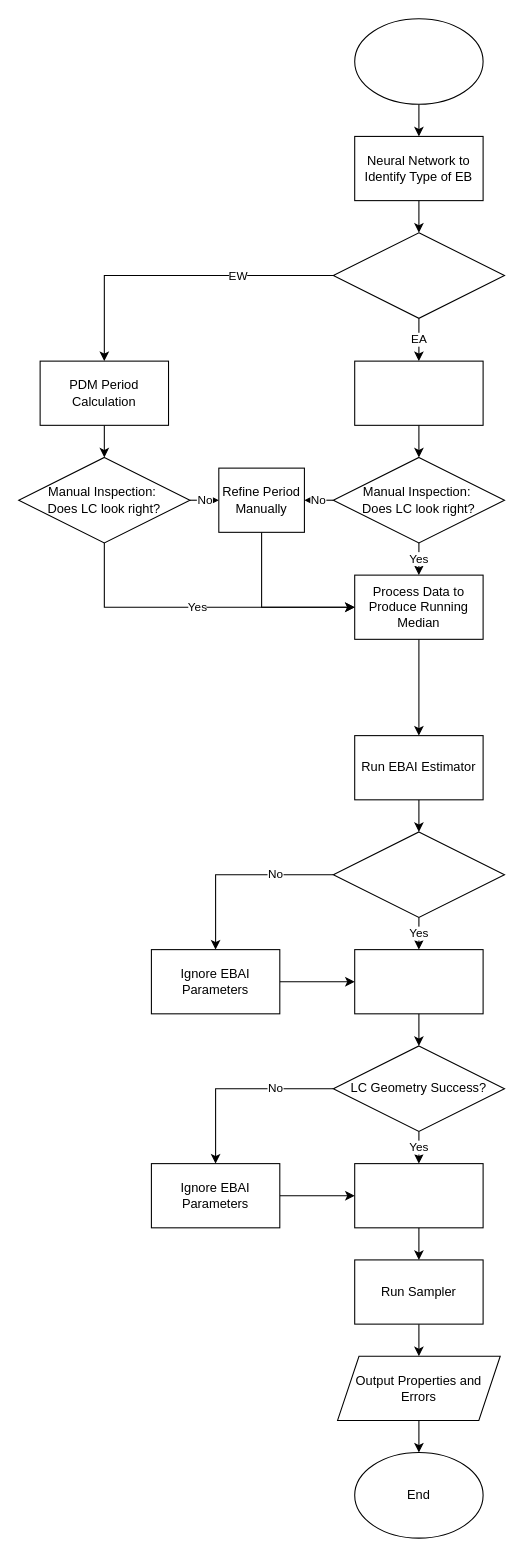
The diagram is 523 pixels wide and 1557 high, and some of its shapes have lost their labels. The centre of each missing label's shape, as x and y in pixels:
"EA or EW Type?" belongs at pixel 418 275.
"EBAI Success?" belongs at pixel 418 874.
"Lomb-Scargle Period Calculation" belongs at pixel 418 392.
"Run LC Geometry Estimator" belongs at pixel 418 981.
"Run Nelder-Mead Optimiser" belongs at pixel 418 1195.
"Start" belongs at pixel 418 61.
